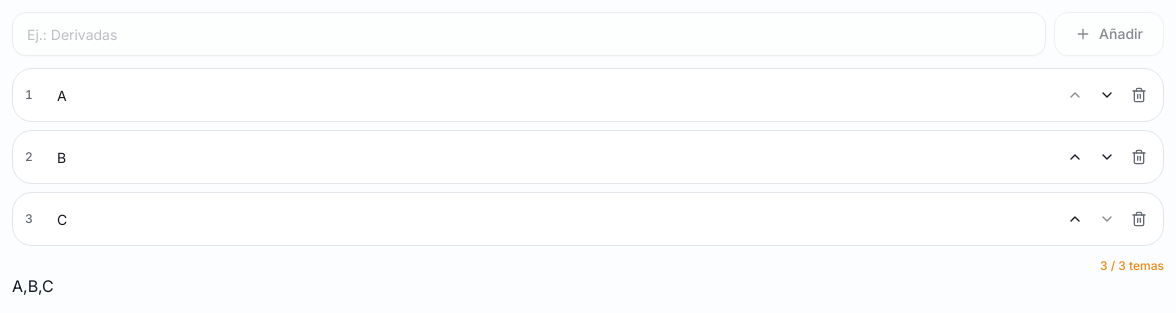
Test: <TopicEditor /> › reordena hacia arriba y hacia abajo
Click the button named "Bajar A": coordinates (1107, 95) [1091,79,1123,111]
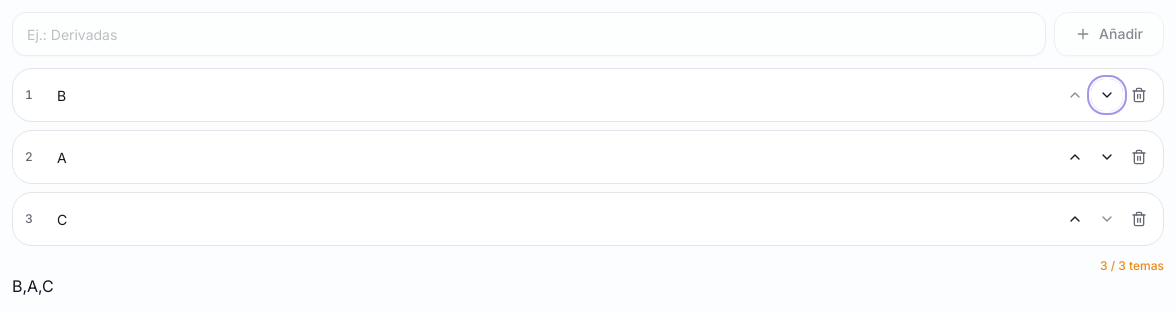
Expected: the text with test id "orden" reads "B,A,C", [12,276,54,296]
Click the button named "Subir C": coordinates (1075, 219) [1059,203,1091,235]
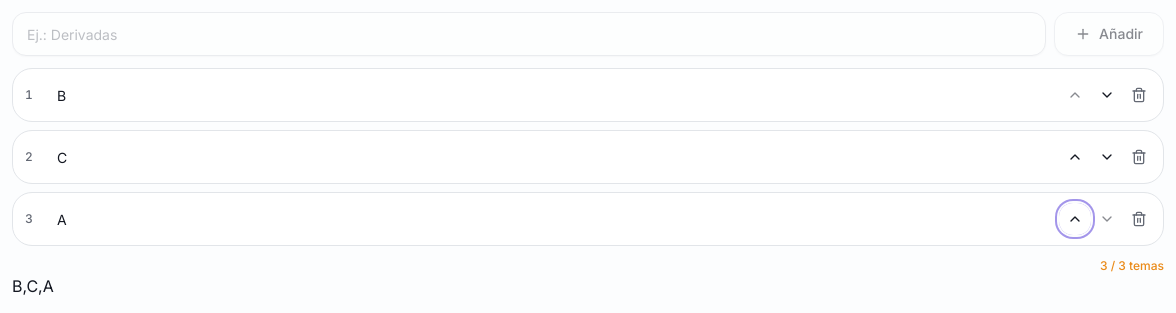
Expected: the text with test id "orden" reads "B,C,A", [12,276,54,296]
